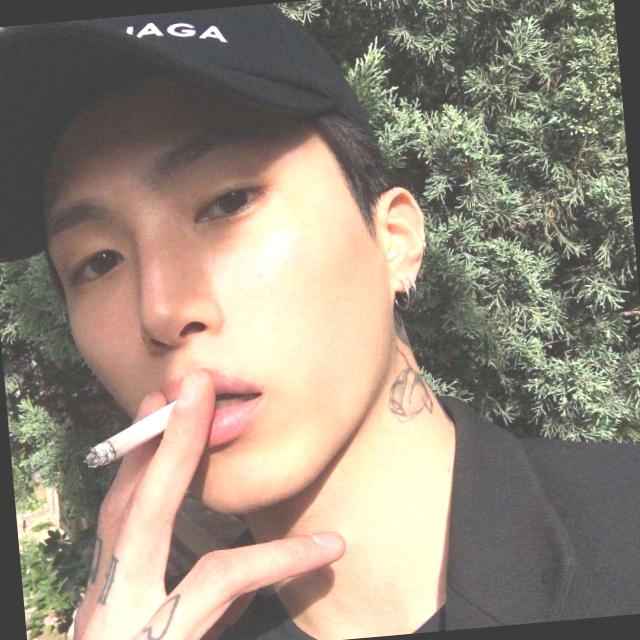smoke: (62, 388, 236, 469)
